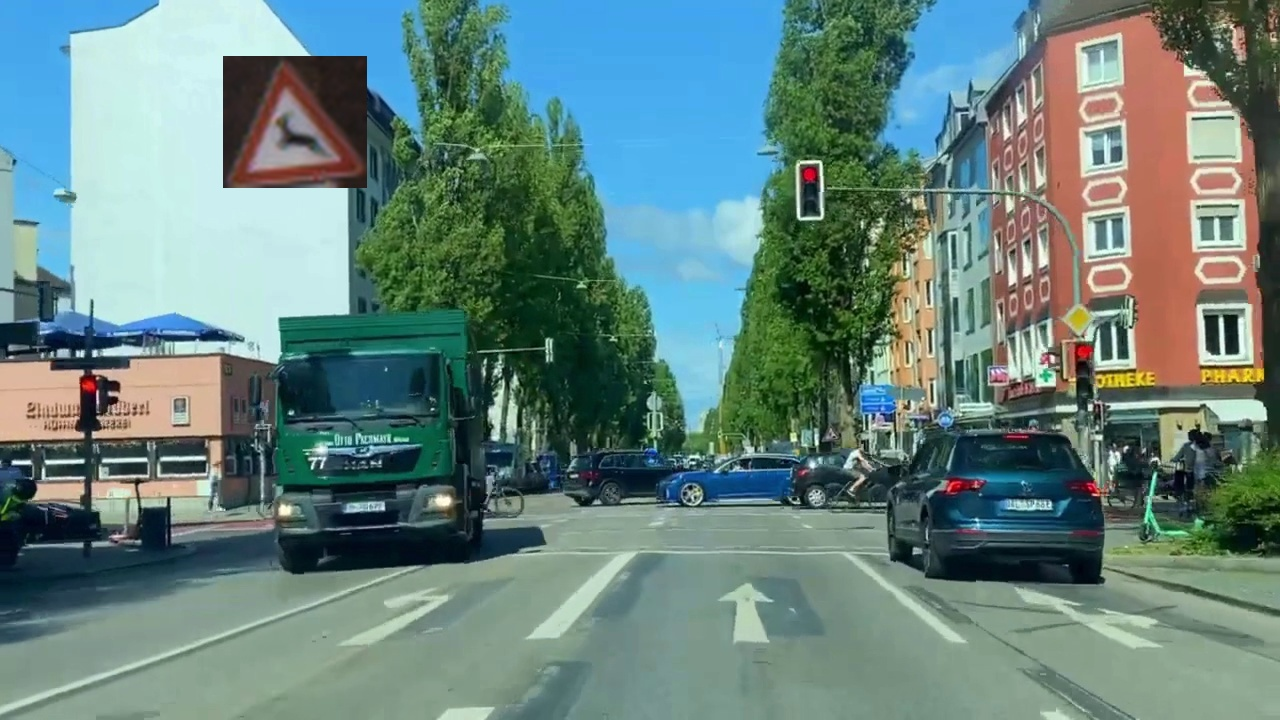Wild animals: (223, 56, 367, 188)
